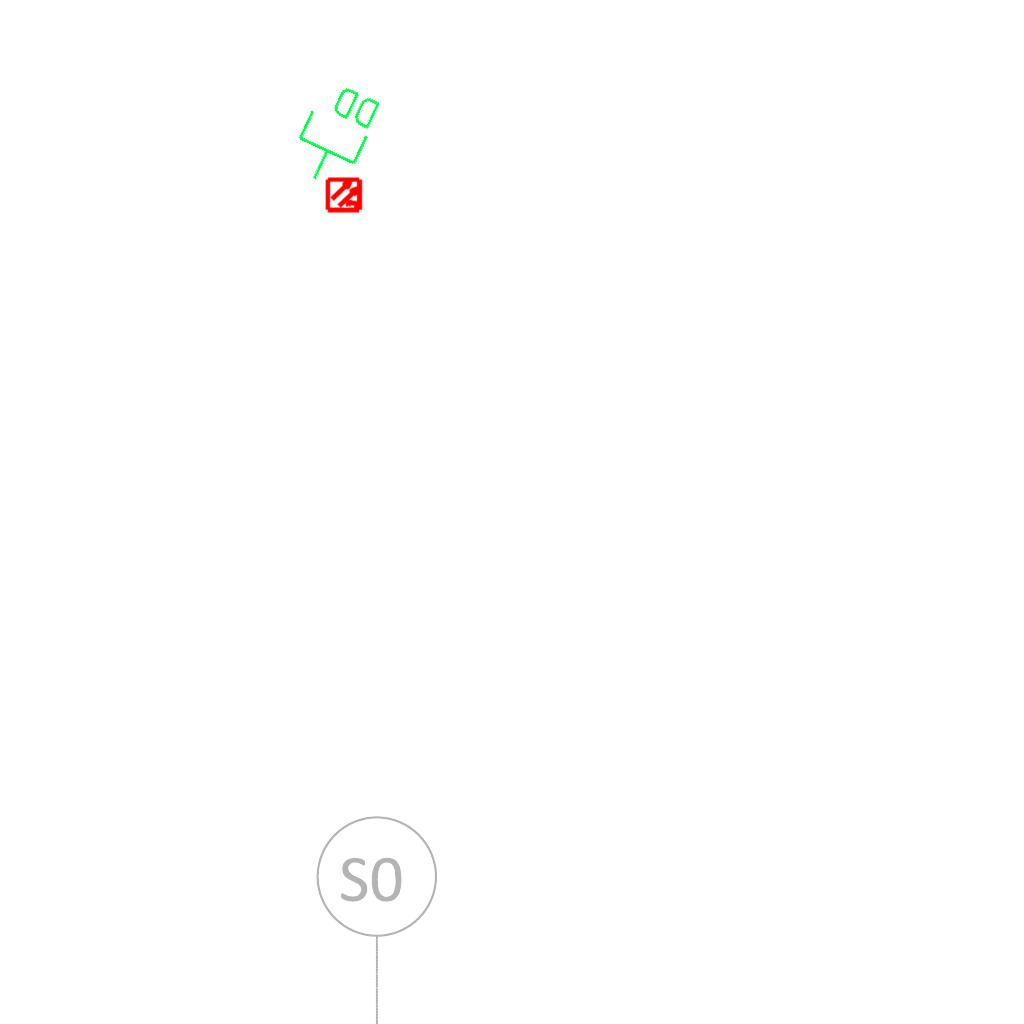Datenanschluss_zweifach: (282, 73, 389, 196)
OT_Multisensormelder_(Kombination_RMO_WMD): (317, 167, 373, 223)
